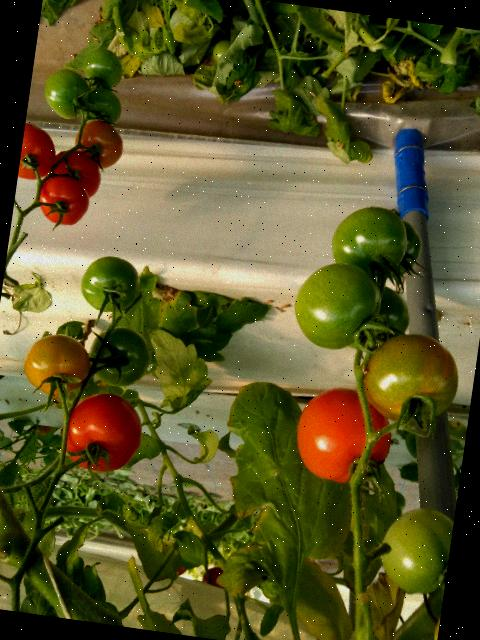l_fully_ripened: (289, 382, 398, 490), (58, 388, 147, 477), (36, 173, 93, 229), (47, 147, 105, 200), (18, 123, 59, 183)
l_green: (289, 256, 386, 355), (375, 504, 455, 599), (328, 202, 411, 281), (346, 281, 413, 358), (84, 322, 156, 392), (78, 252, 143, 316), (377, 218, 425, 283), (41, 68, 93, 121), (81, 46, 125, 91), (80, 85, 125, 128)
l_half_ripened: (360, 328, 465, 430), (20, 330, 95, 401), (71, 117, 127, 172)
